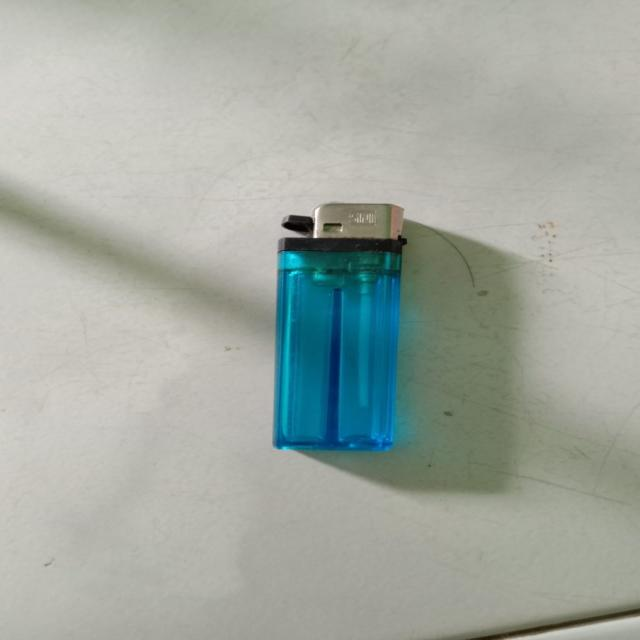korek api: (215, 174, 490, 512)
